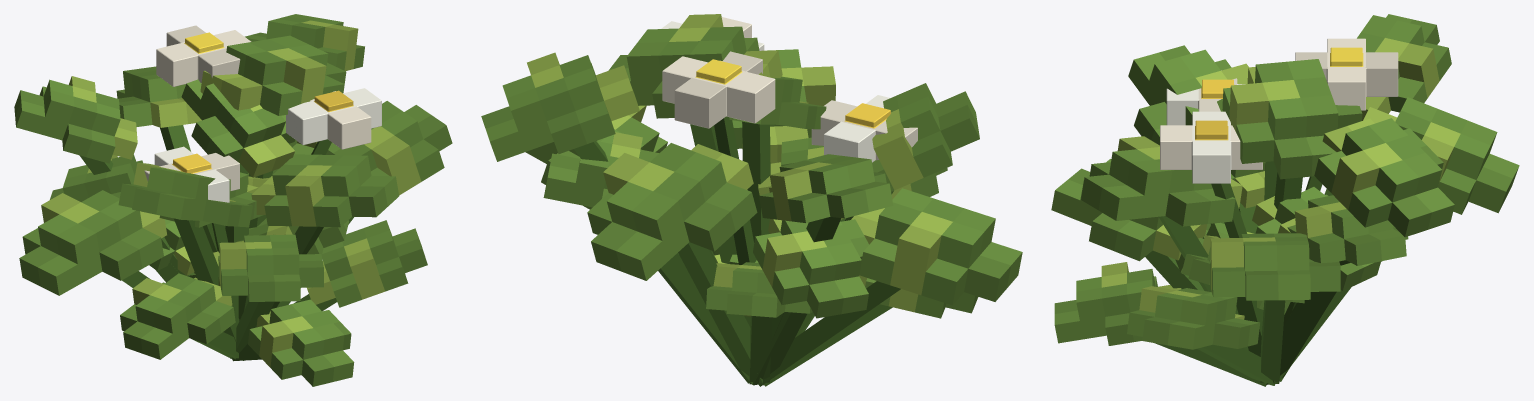
Rendered from SM_VMF_Crop_Potato_Mature.fbx.
3 views of the same model, side by side, from view 1: azimuth 30°, elevation 25°; view 2: azimuth 150°, elevation 25°; view 3: azimuth 270°, elevation 25° (orthographic). The views are drawn at different scales.
Visible parts, largest first — view 1: SM_VMF_Crop_Potato_Mature_Leaves, SM_VMF_Crop_Potato_Mature_Flowers, SM_VMF_Crop_Potato_Mature_Stems, SM_VMF_Crop_Potato_Mature_FlowerStems; view 2: SM_VMF_Crop_Potato_Mature_Leaves, SM_VMF_Crop_Potato_Mature_Stems, SM_VMF_Crop_Potato_Mature_Flowers, SM_VMF_Crop_Potato_Mature_FlowerStems; view 3: SM_VMF_Crop_Potato_Mature_Leaves, SM_VMF_Crop_Potato_Mature_Flowers, SM_VMF_Crop_Potato_Mature_Stems, SM_VMF_Crop_Potato_Mature_FlowerStems.
Part boxes in pixels (box(x1,y1,x2,y2)): SM_VMF_Crop_Potato_Mature_Leaves: box(14, 14, 452, 386); SM_VMF_Crop_Potato_Mature_Flowers: box(144, 25, 381, 202); SM_VMF_Crop_Potato_Mature_Stems: box(79, 125, 354, 361); SM_VMF_Crop_Potato_Mature_FlowerStems: box(203, 139, 331, 252); SM_VMF_Crop_Potato_Mature_Leaves: box(481, 14, 1022, 318); SM_VMF_Crop_Potato_Mature_Stems: box(574, 121, 900, 386); SM_VMF_Crop_Potato_Mature_Flowers: box(661, 17, 917, 162); SM_VMF_Crop_Potato_Mature_FlowerStems: box(714, 116, 756, 264); SM_VMF_Crop_Potato_Mature_Leaves: box(1051, 14, 1519, 349); SM_VMF_Crop_Potato_Mature_Flowers: box(1160, 38, 1398, 183); SM_VMF_Crop_Potato_Mature_Stems: box(1145, 161, 1351, 386); SM_VMF_Crop_Potato_Mature_FlowerStems: box(1211, 176, 1322, 237).
Size of the model in its own units: 83.73 by 56.56 by 72.79.
Materials: 1 (1 with a texture image).
